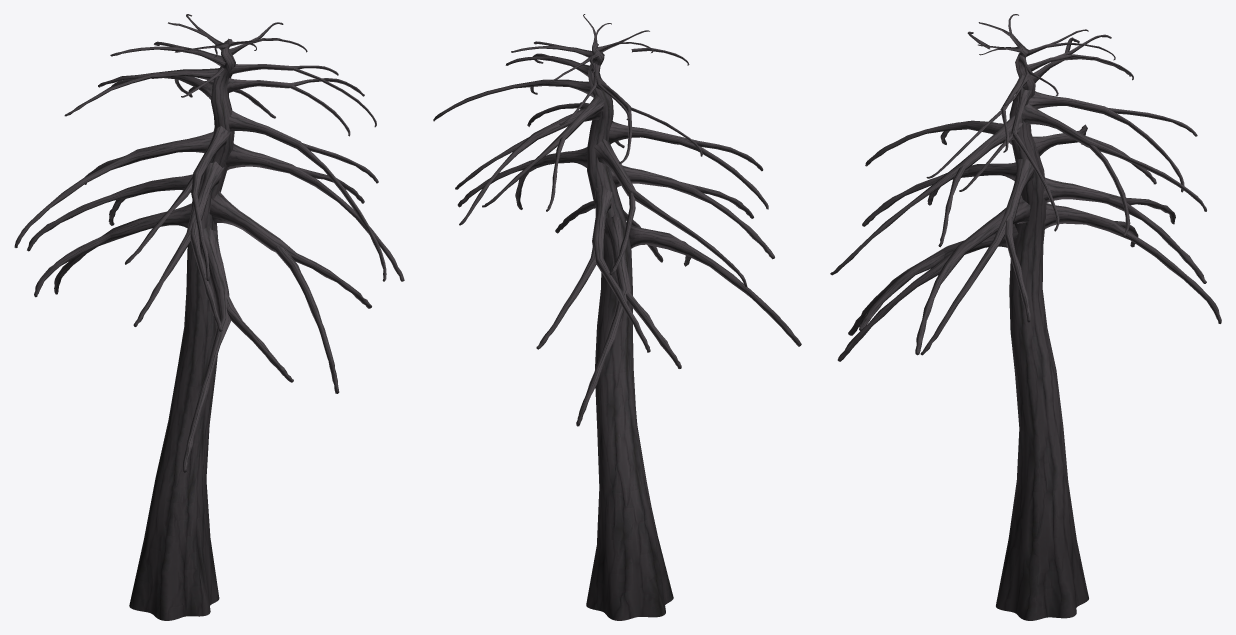
File: dead-a.glb
The picture shows the model from 3 angles, left to right: view 1: azimuth 30°, elevation 25°; view 2: azimuth 150°, elevation 25°; view 3: azimuth 270°, elevation 25°; orthographic projection. The views are drawn at different scales.
Visible parts, largest first — view 1: DeadTree_4; view 2: DeadTree_4; view 3: DeadTree_4.
Boxes of the visible parts, left/top/right/bottom form: DeadTree_4: left=14, top=14, right=404, bottom=620; DeadTree_4: left=433, top=14, right=801, bottom=620; DeadTree_4: left=830, top=14, right=1221, bottom=620.
Bounding box in the file's own units: 7.96 × 12.77 × 7.73.
Materials: 1 (1 with a texture image).
